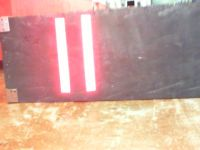switch: (80, 14, 97, 91), (54, 18, 71, 93)
